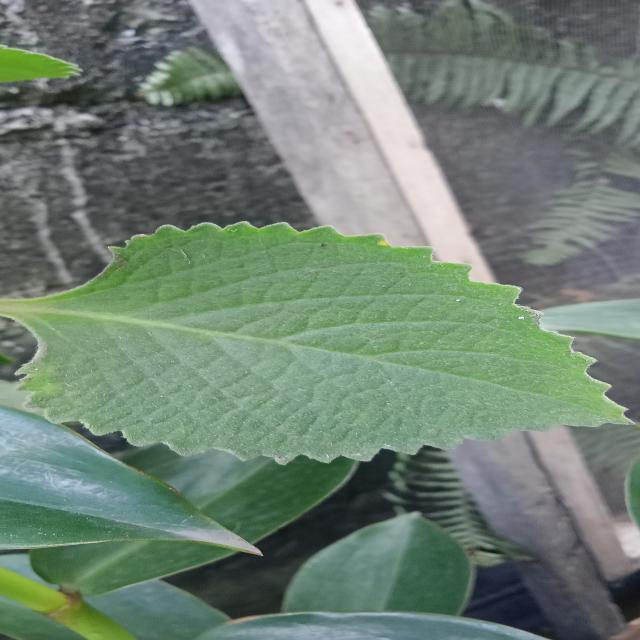Oregano: (18, 208, 640, 483)
